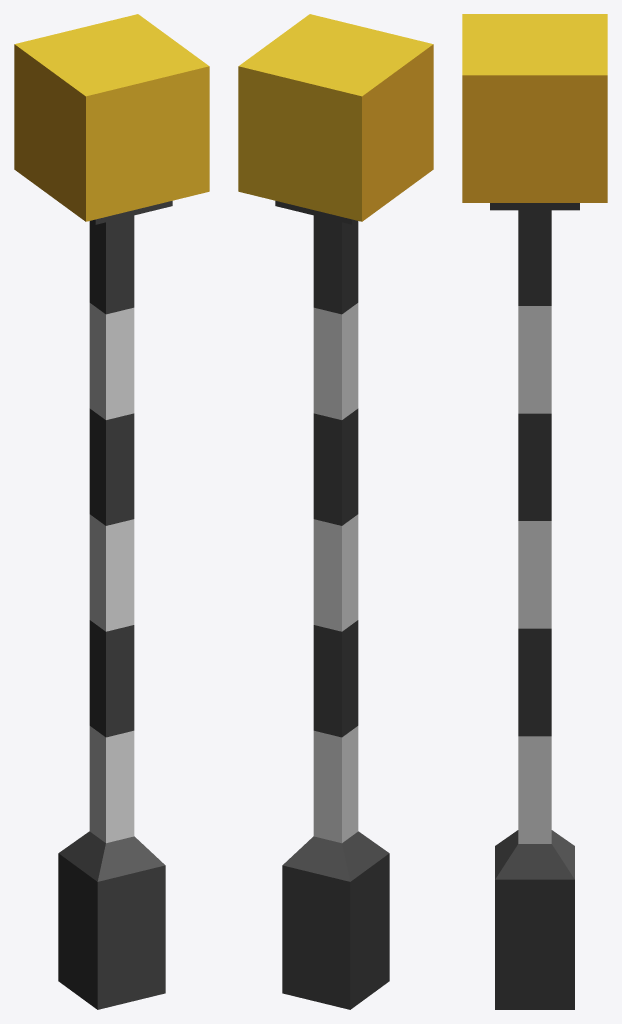
The model's file is SM_CrossingLight_01.fbx.
3 views of the same model, side by side, from view 1: azimuth 30°, elevation 25°; view 2: azimuth 150°, elevation 25°; view 3: azimuth 270°, elevation 25° (orthographic).
Parts seen in each view (by area): view 1: SM_CrossingLight_01; view 2: SM_CrossingLight_01; view 3: SM_CrossingLight_01.
Part boxes in pixels (x1=…): SM_CrossingLight_01: x1=14, y1=14, x2=209, y2=1009; SM_CrossingLight_01: x1=238, y1=14, x2=433, y2=1009; SM_CrossingLight_01: x1=462, y1=14, x2=607, y2=1009.
Bounding box in the file's own units: 0.6877 × 4.95 × 0.6877.
